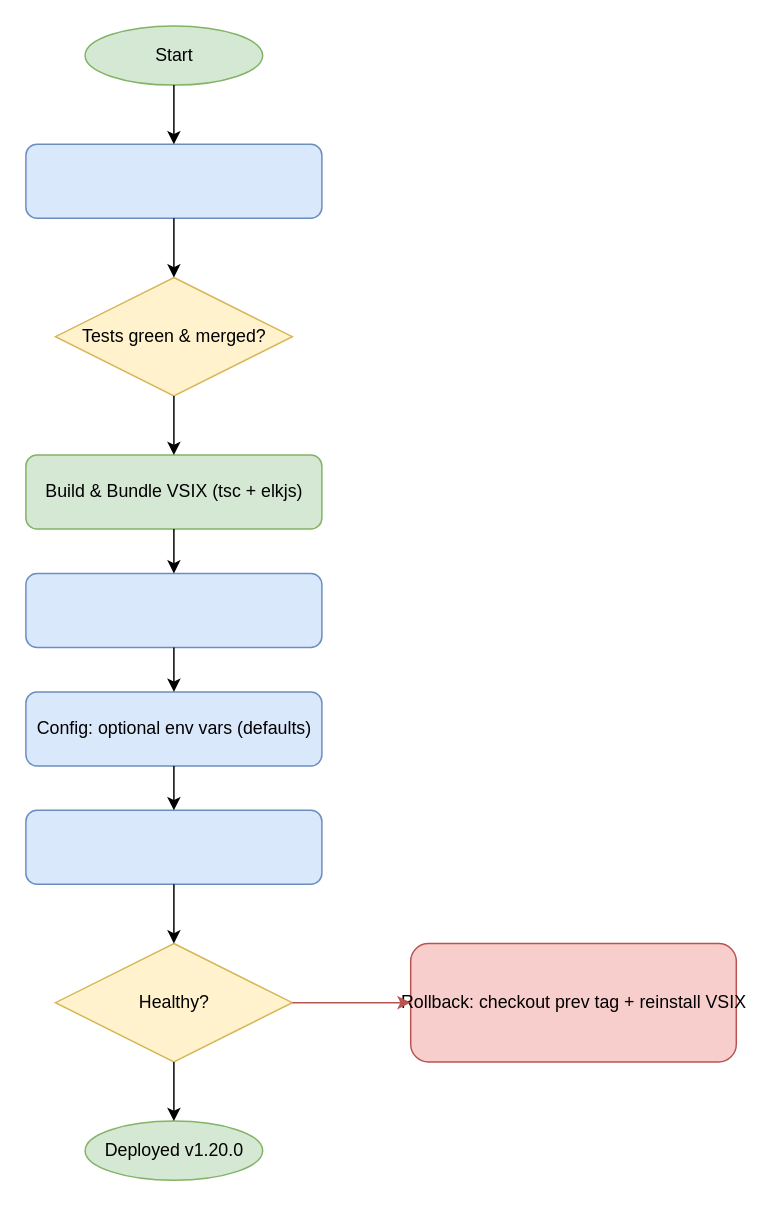
Image size: 771x1206. Some labels were removed from this diagram. Here are the shapes that lost their labels. From the top down, the centre of each, then its label:
At pixel 173 180: "Pre-Deploy Checklist (gate)".
At pixel 173 610: "DB Migration: N/A".
At pixel 173 846: "Verify: MCP call + smoke tests".
